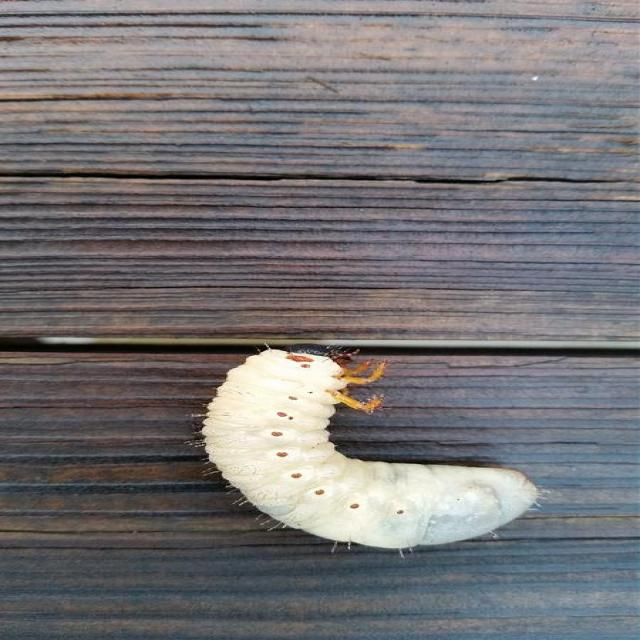Grub-Adult-: (172, 334, 557, 564)
